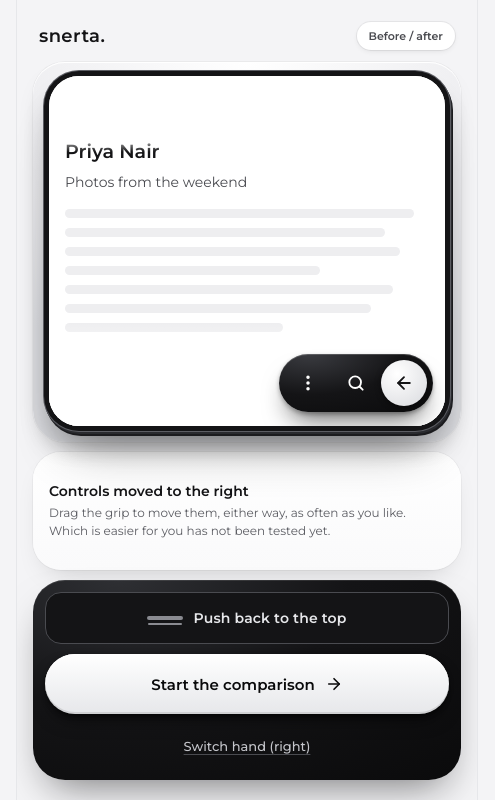
it: Skip path and placement demo › moves every control to the rail and reverts cleanly
The image size is (495, 800).
Earlier steps of the test are not shown.
Expected: the heading "Priya Nair" is shown, left=65, top=140, right=160, bottom=163
Click the button named "Back": (404, 383) left=381, top=360, right=427, bottom=406
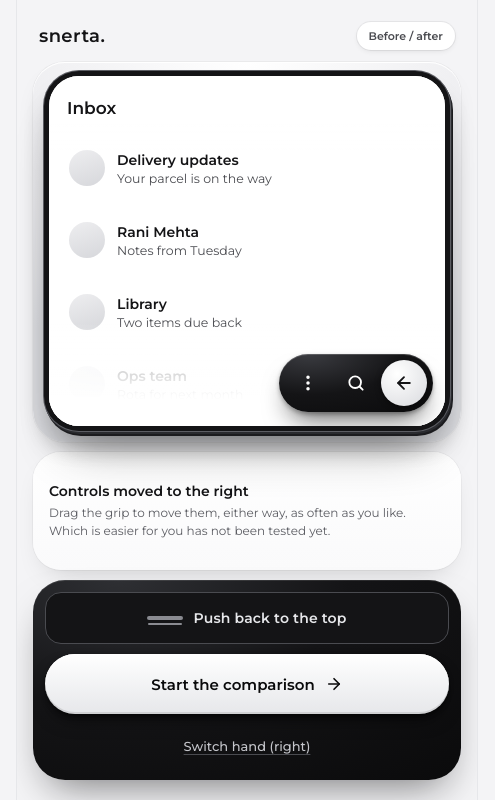
Click the button "Switch hand (right)": (247, 746) left=45, top=724, right=449, bottom=768
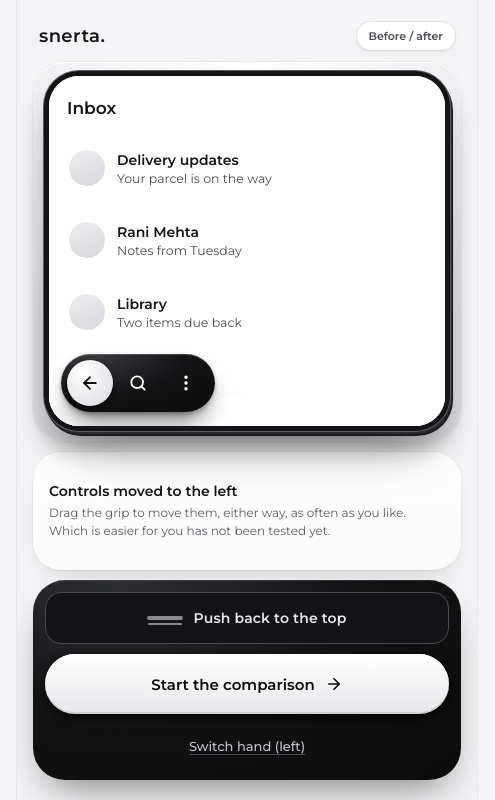
Expected: the navigation bar with class "app-rail" has class "app-rail--left", left=61, top=354, right=215, bottom=412
Click the button "Switch hand (left)": (247, 746) left=45, top=724, right=449, bottom=768
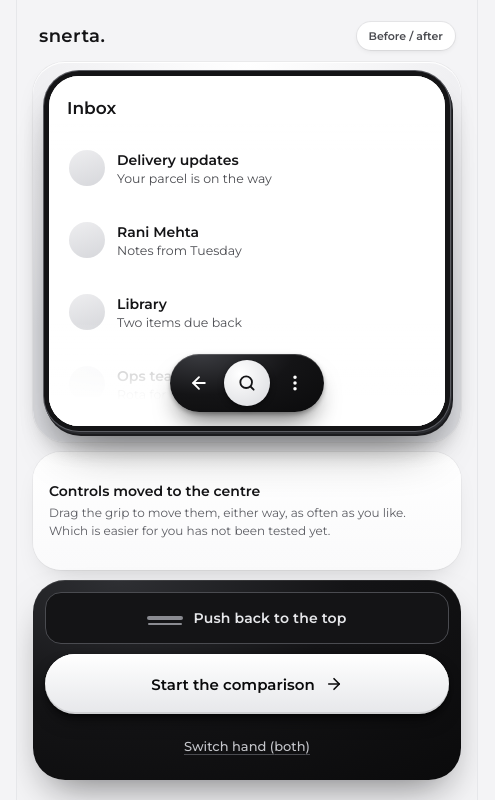
Expected: the navigation bar with class "app-rail" has class "app-rail--center", left=170, top=354, right=324, bottom=412
Press the mouse on the button with aria-label "Move the controls": (247, 618) left=45, top=592, right=449, bottom=644
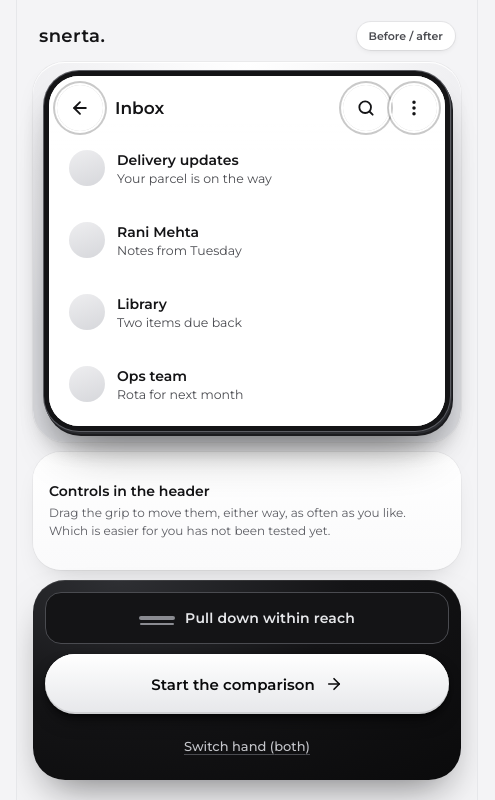
Expected: the navigation bar with class "app-rail" is gone
